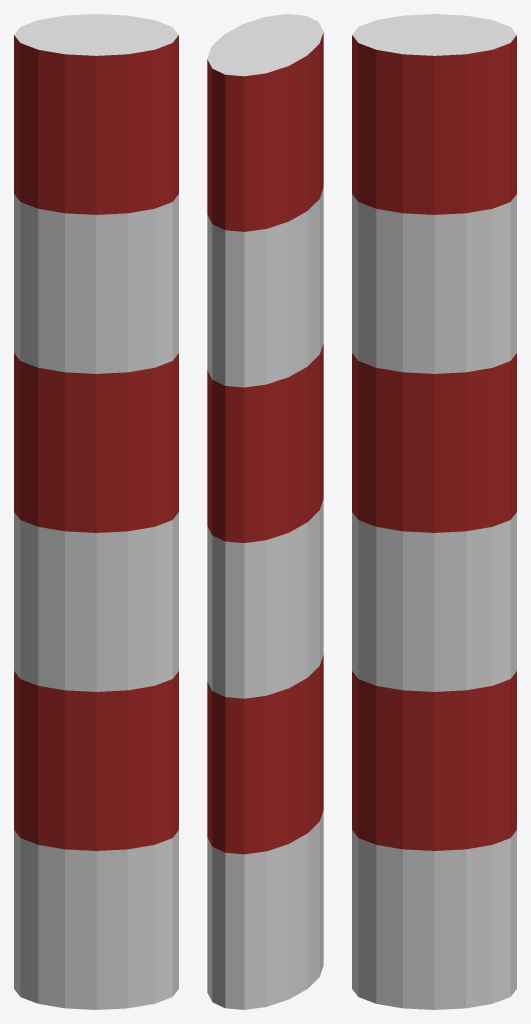
The model's file is pole.fbx.
3 views of the same model, side by side, from view 1: azimuth 90°, elevation 25°; view 2: azimuth 150°, elevation 25°; view 3: azimuth 270°, elevation 25° (orthographic). The views are drawn at different scales.
Visible parts, largest first — view 1: pole; view 2: pole; view 3: pole.
Part boxes in pixels (<box>): pole: <box>14,14,178,1009</box>; pole: <box>207,14,323,1009</box>; pole: <box>352,14,516,1009</box>.
Size of the model in its own units: 61.49 by 653 by 102.
